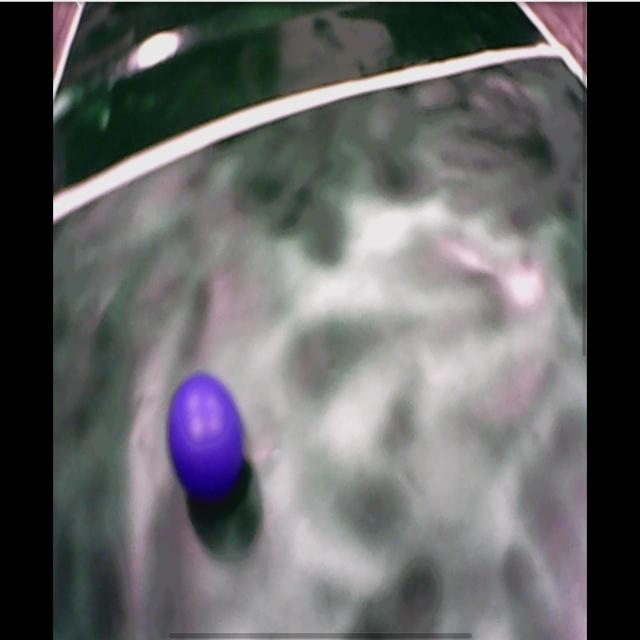ball: (168, 372, 245, 495)
